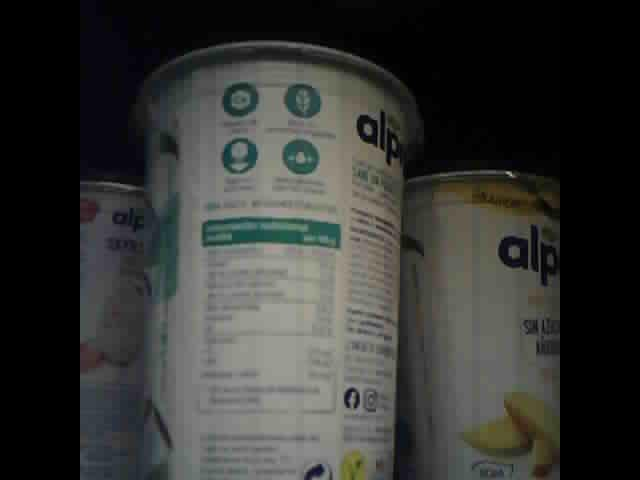alpro: (139, 38, 423, 480), (402, 164, 561, 478), (80, 167, 160, 480)
